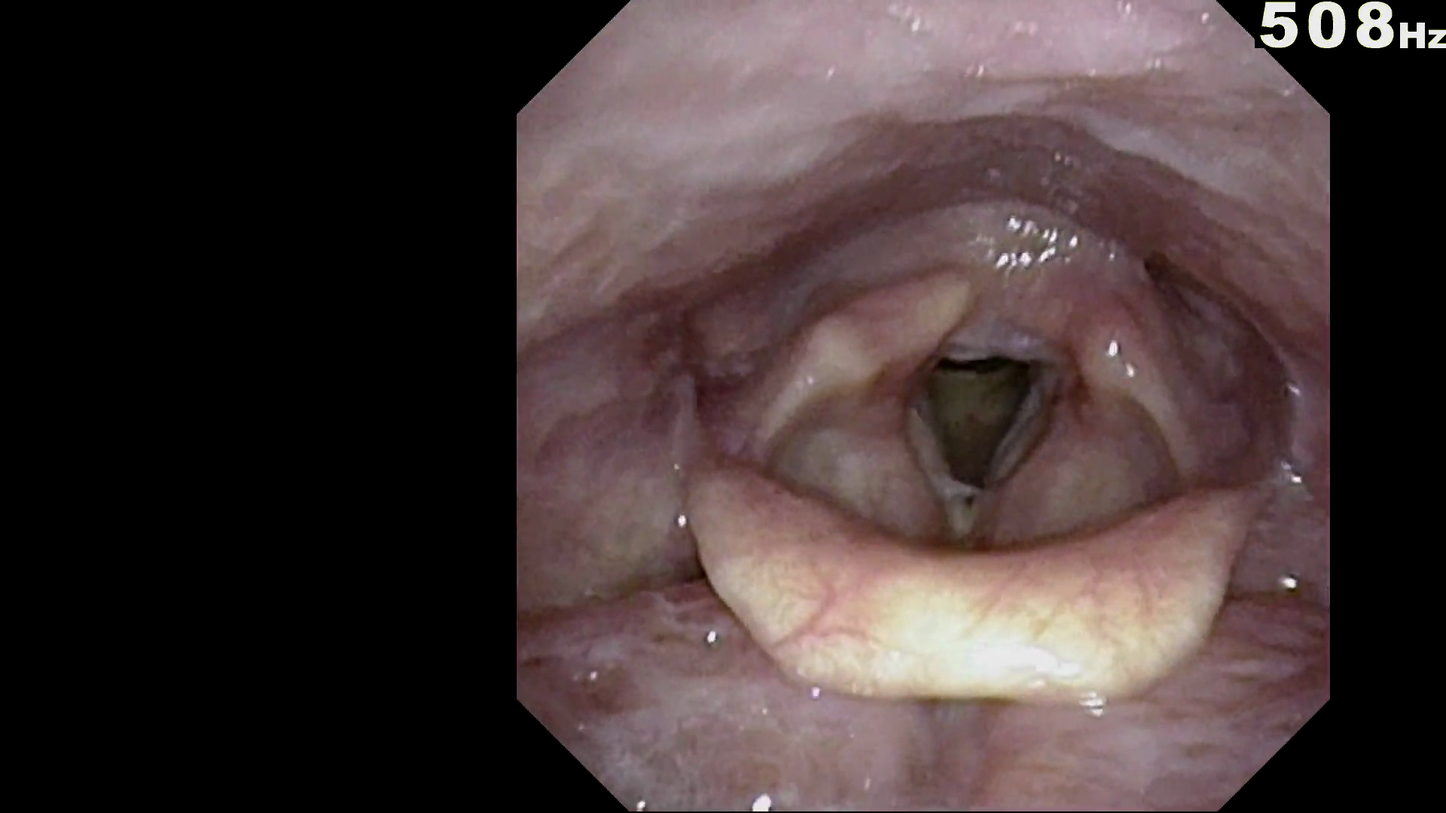epiglottis: (663, 408, 1273, 735)
trachea: (860, 315, 1083, 540)
